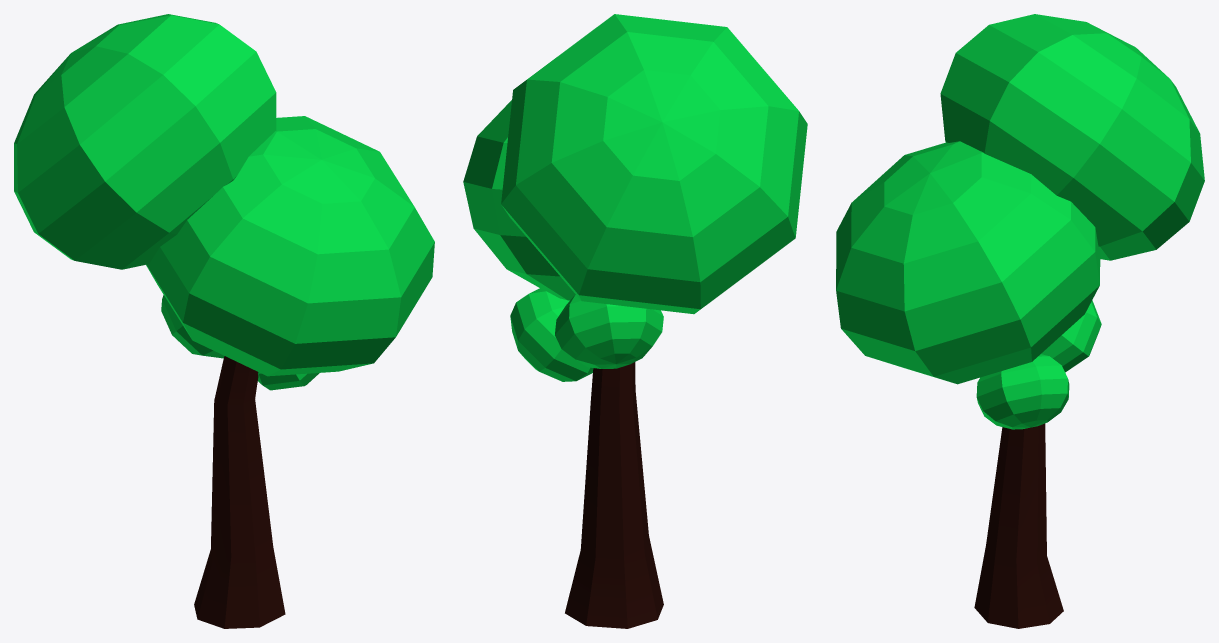
The model's file is tree_01.fbx.
3 renders of one model, left to right at view 1: azimuth 30°, elevation 25°; view 2: azimuth 150°, elevation 25°; view 3: azimuth 270°, elevation 25°, orthographic. The views are drawn at different scales.
Parts seen in each view (by area): view 1: tree_01; view 2: tree_01; view 3: tree_01.
Boxes of the visible parts, x1,y1,x2,y2 form: tree_01: [14, 14, 434, 628]; tree_01: [463, 14, 807, 628]; tree_01: [836, 14, 1204, 628].
Size of the model in its own units: 1315 by 2168 by 1304.
